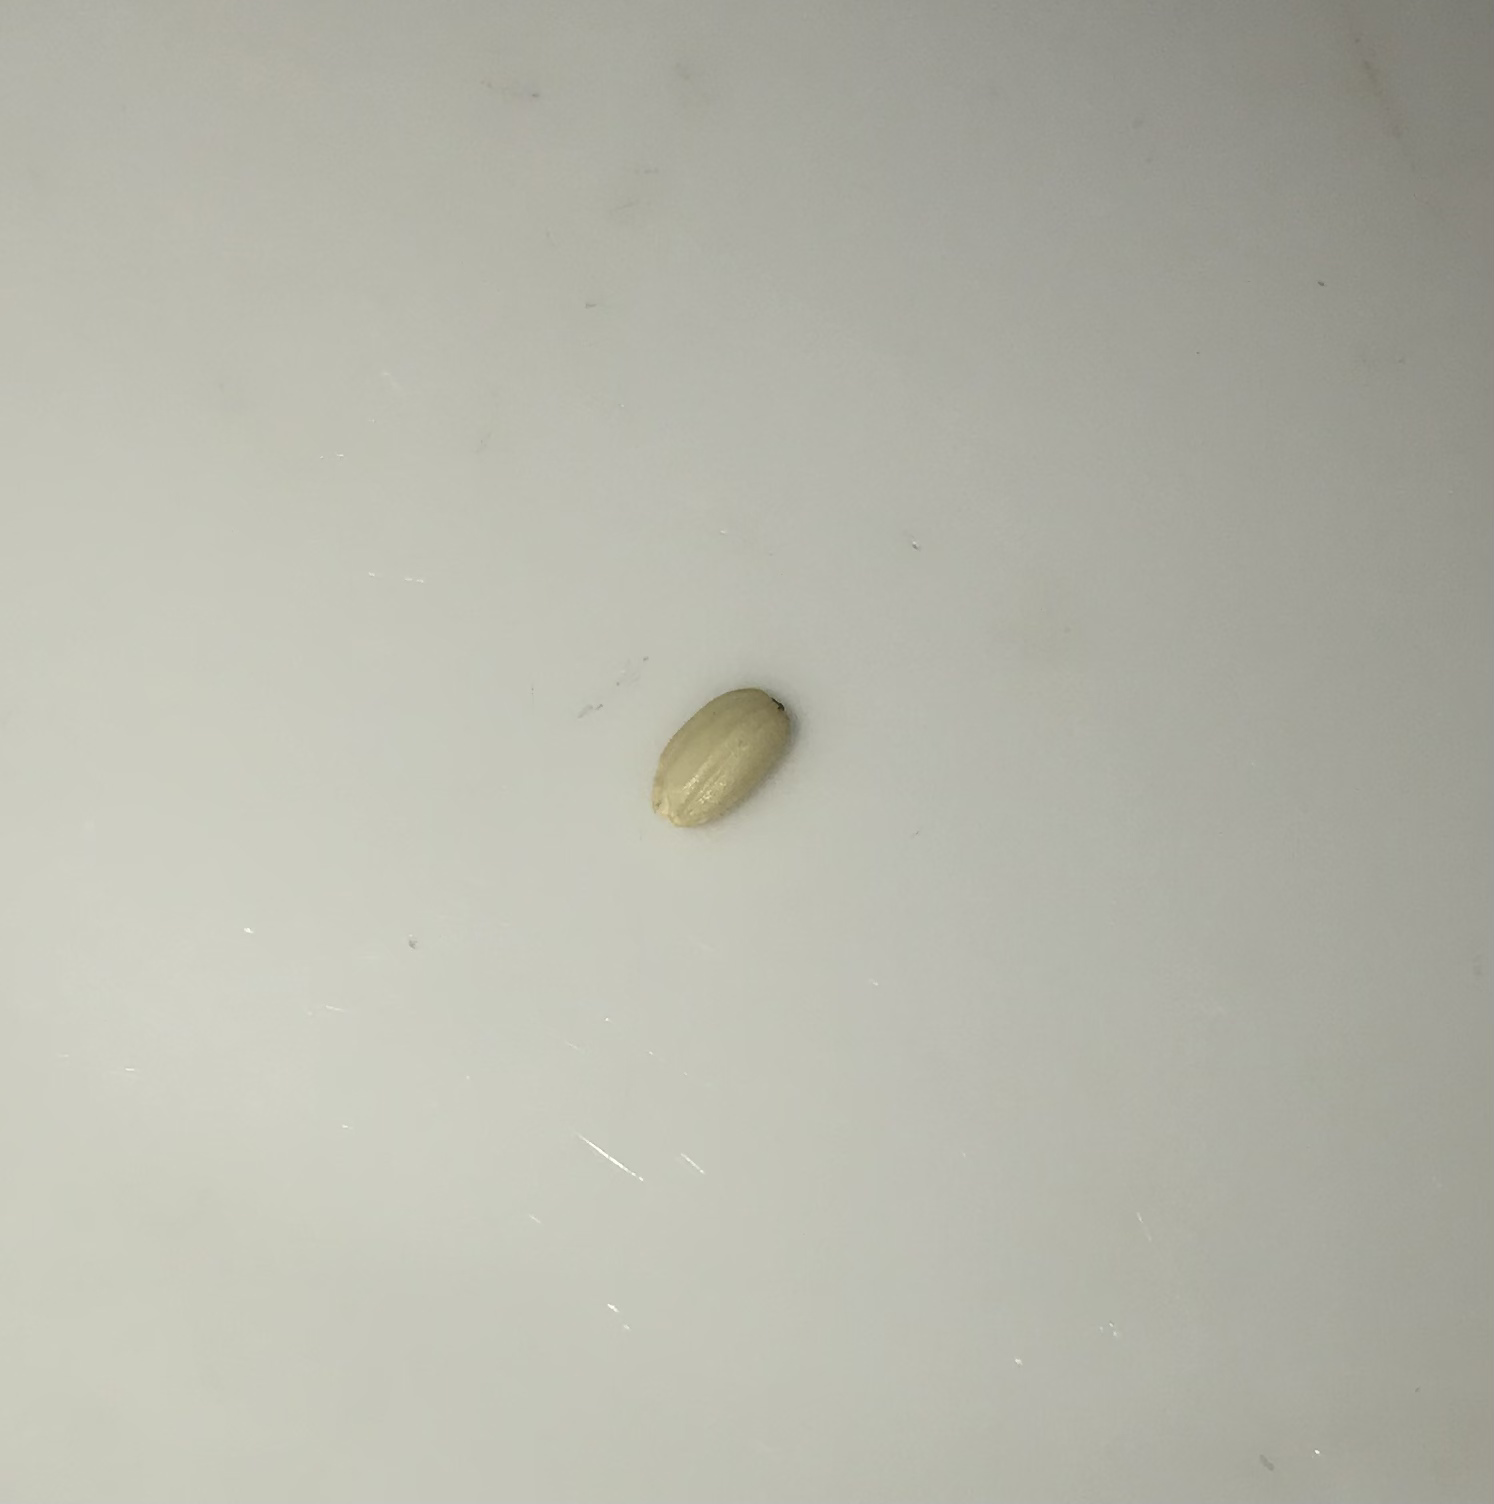Gao Lut Bac: (643, 680, 803, 842)
